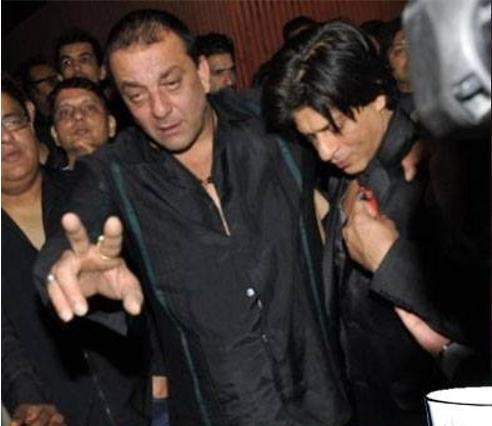Drunk: (117, 47, 206, 149), (289, 101, 383, 172)
